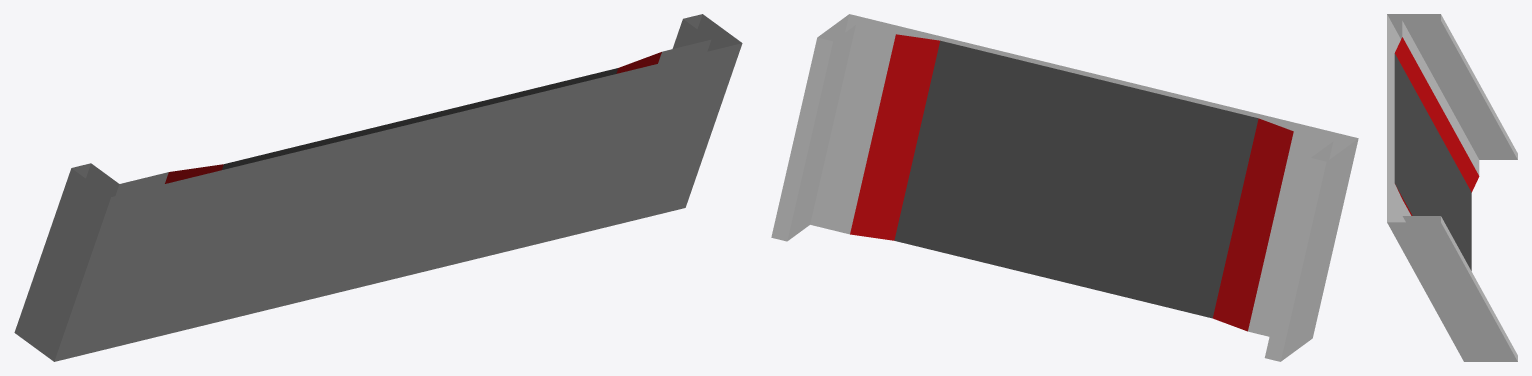
Rendered from Straight_Pitch2.fbx.
The picture shows the model from 3 angles, left to right: view 1: azimuth 30°, elevation 25°; view 2: azimuth 150°, elevation 25°; view 3: azimuth 270°, elevation 25°; orthographic projection. The views are drawn at different scales.
Parts seen in each view (by area): view 1: Straight_Pitch2; view 2: Straight_Pitch2; view 3: Straight_Pitch2.
Part boxes in pixels (x1=…): Straight_Pitch2: x1=14, y1=14, x2=742, y2=361; Straight_Pitch2: x1=771, y1=14, x2=1358, y2=361; Straight_Pitch2: x1=1387, y1=14, x2=1517, y2=361.
Bounding box in the file's own units: 1280 × 400 × 340.
